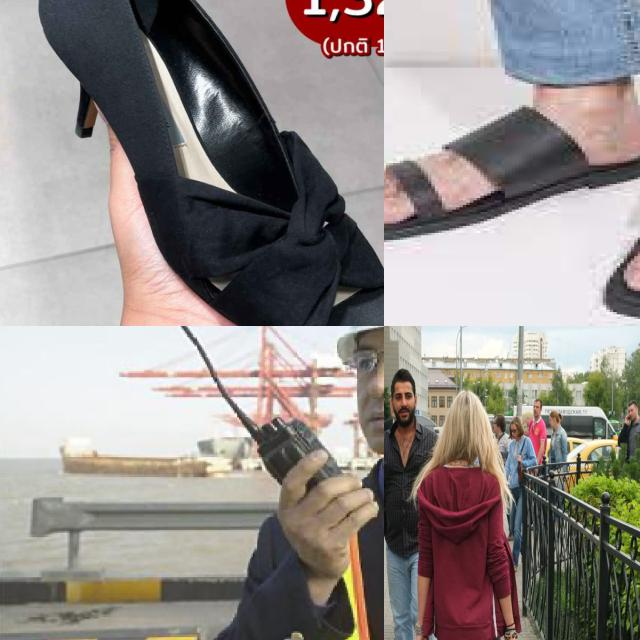Sandals: (25, 0, 384, 326), (384, 94, 640, 243)
face_nomask: (357, 379, 384, 456)
glasses: (350, 348, 384, 375)
hand_noglove: (277, 451, 377, 605)
